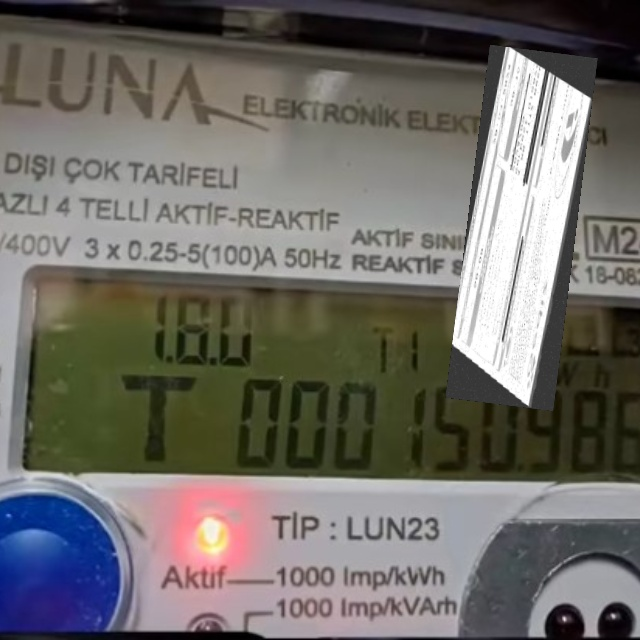electricity-bill: (445, 45, 598, 411)
